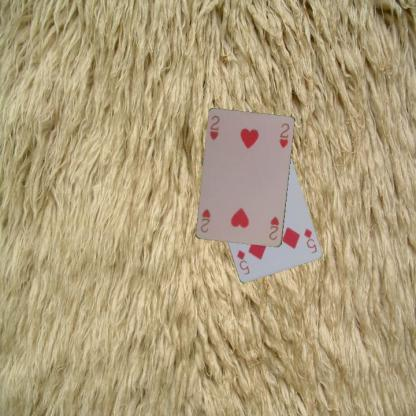2h: (207, 113, 221, 142), (266, 214, 281, 241)
5d: (301, 225, 318, 254)
